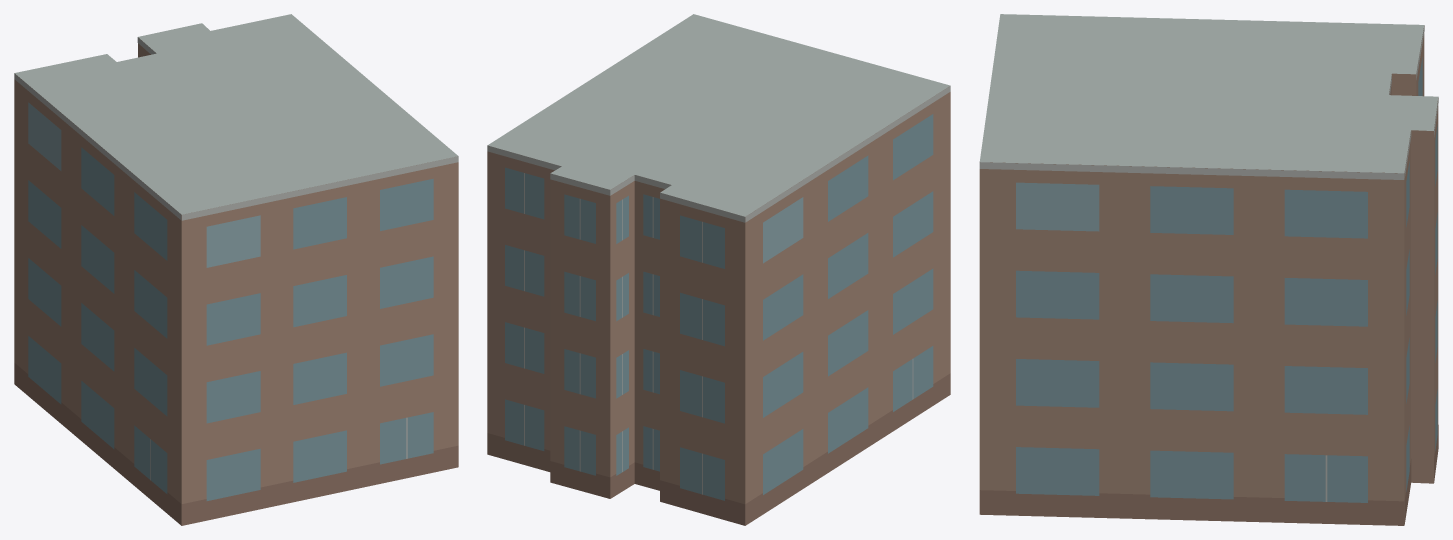
Rendered from survey-upis-32836728.glb.
3 views of the same model, side by side, from view 1: azimuth 30°, elevation 25°; view 2: azimuth 150°, elevation 25°; view 3: azimuth 270°, elevation 25° (orthographic). The views are drawn at different scales.
Parts seen in each view (by area): view 1: survey-upis-32836728.tmp; view 2: survey-upis-32836728.tmp; view 3: survey-upis-32836728.tmp.
Part boxes in pixels (left/top/right/bottom): survey-upis-32836728.tmp: left=14, top=14, right=458, bottom=525; survey-upis-32836728.tmp: left=487, top=14, right=950, bottom=525; survey-upis-32836728.tmp: left=979, top=14, right=1438, bottom=525.
Size of the model in its own units: 12.25 by 12.63 by 14.9.
